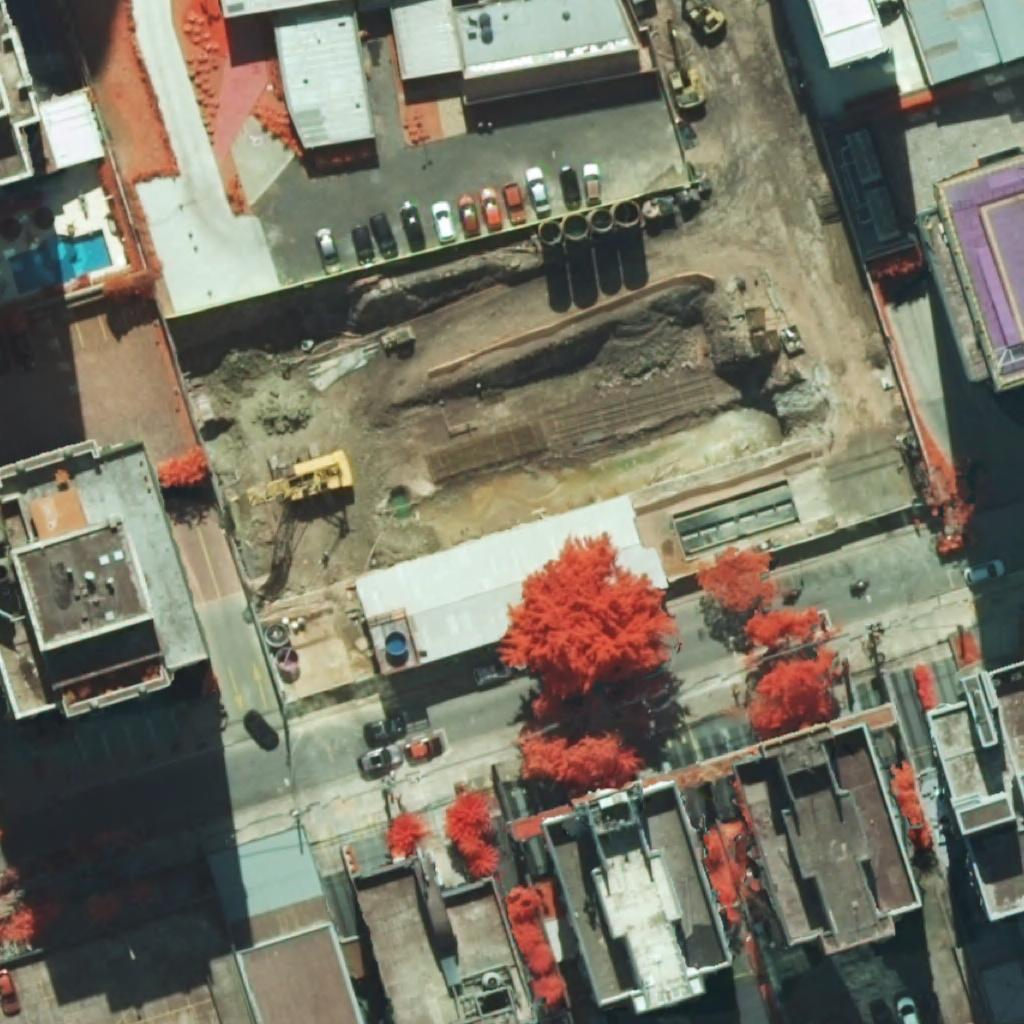pool: (7, 229, 112, 294)
